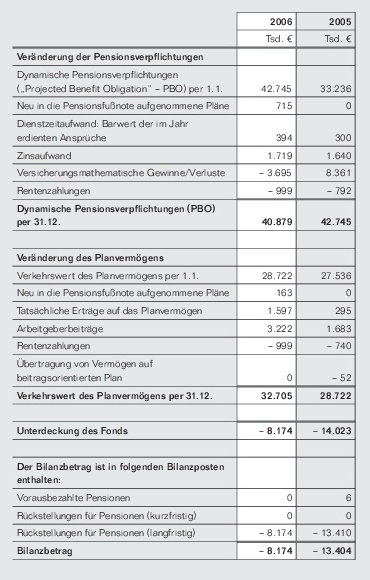table: (0, 0, 370, 580)
